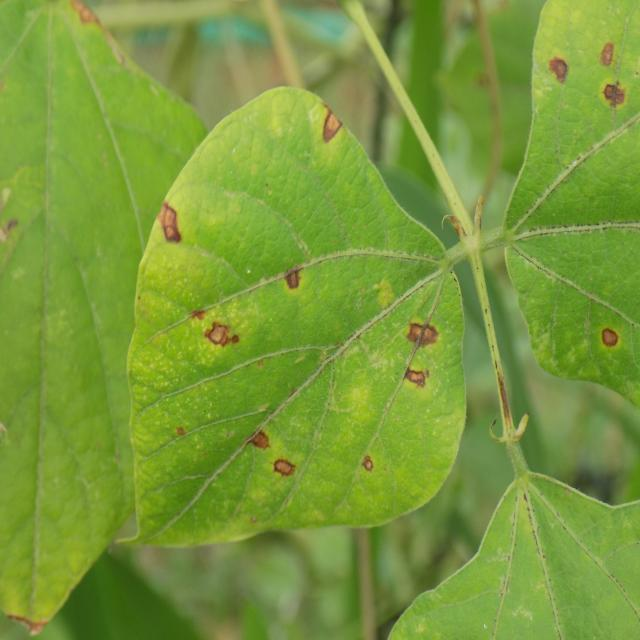Dolicos bean_cercospora leaf spot: (127, 82, 471, 546)
